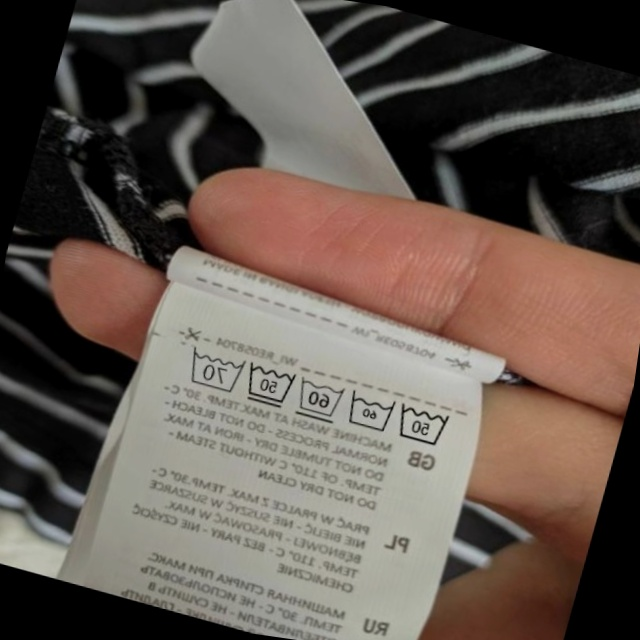50C: (389, 395, 453, 453), (237, 358, 297, 412)
60C: (288, 373, 348, 426), (340, 387, 398, 436)
70C: (179, 343, 247, 400)
